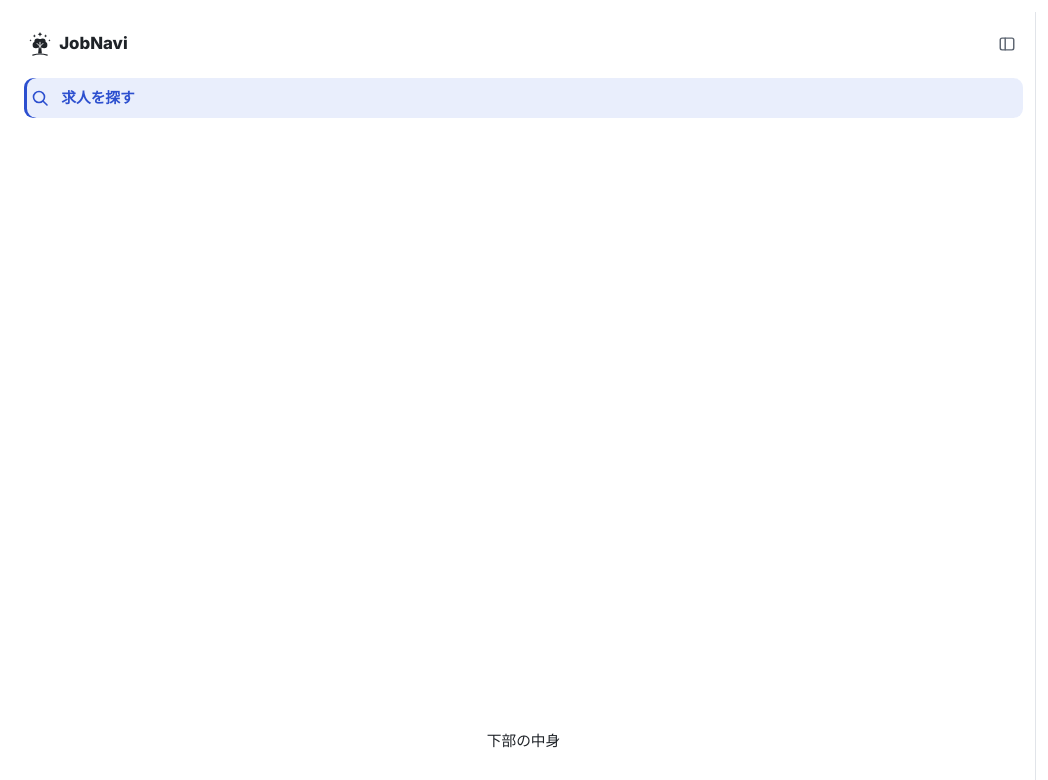
Scenario: AppSidebar › 開閉 › 閉じると、開くボタンに替わってフォーカスが移り、行き先と下部の中身は残る。開くと元に戻る
Click the button named "サイドパネルを閉じる": (1007, 44) [991,28,1023,60]
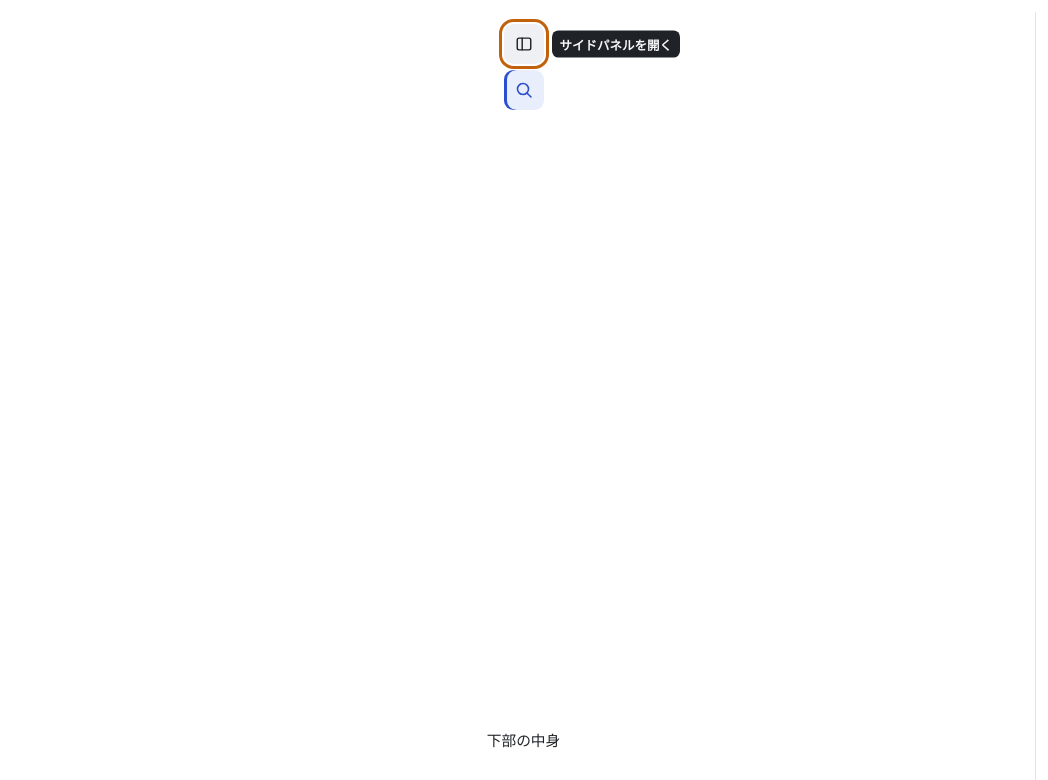
expect the text "下部の中身" is shown: met, box [487,730,560,753]
expect the button named "サイドパネルを開く" is collapsed: met
Click the button named "サイドパネルを開く": (524, 44) [504,24,544,64]
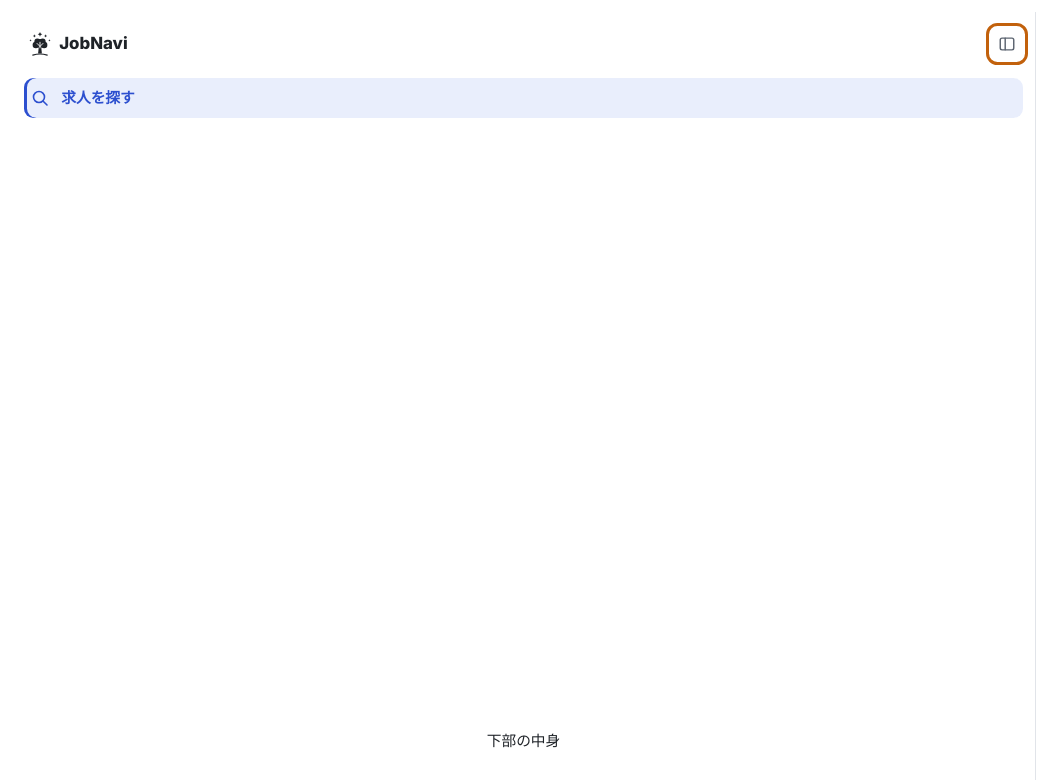
expect the element showing "JobNavi 求人を探す 下部の中身" has attribute data-open="true": met
